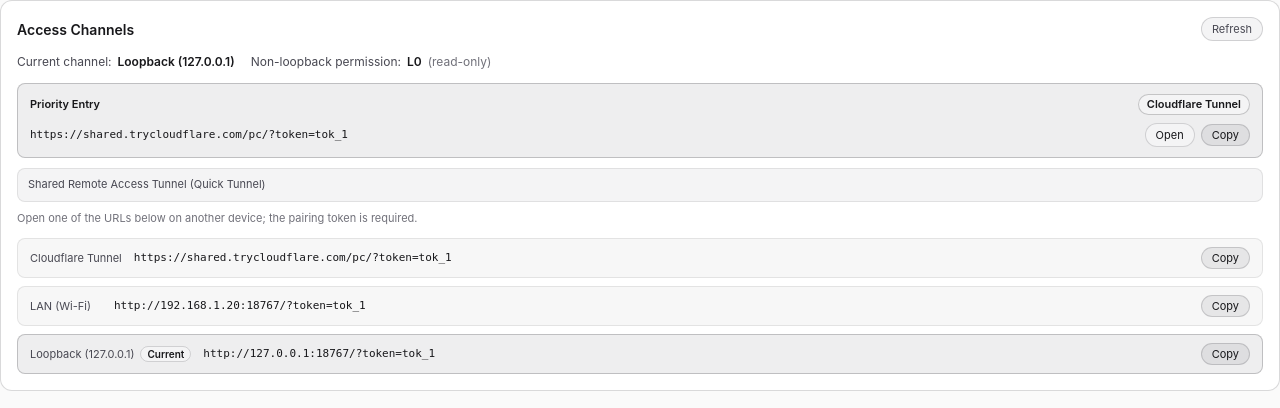
WebAccessPanel › orders channels Cloudflare-first, renders Priority Entry card & guidance, and falls back when clipboard is unavailable
Expected: the element with test id "web-access-primary-card" is shown, [17,83,1263,158]
Expected: the text with test id "web-access-primary-channel" reads "Cloudflare Tunnel", [1147,97,1241,111]
Click the button with test id "web-access-primary-copy" at [1225, 135], box [1201,124,1250,146]
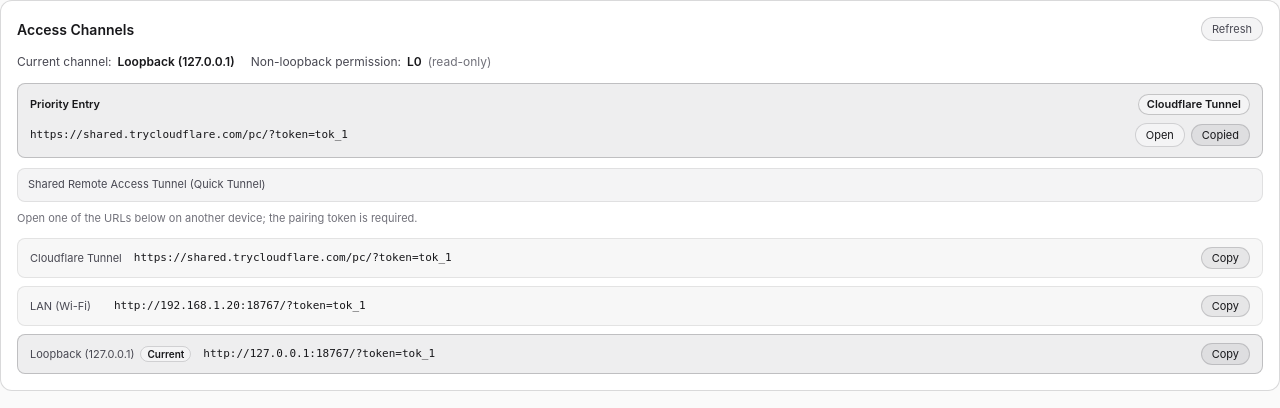
Expected: the button with test id "web-access-primary-copy" reads "Copied", [1191,124,1250,146]
